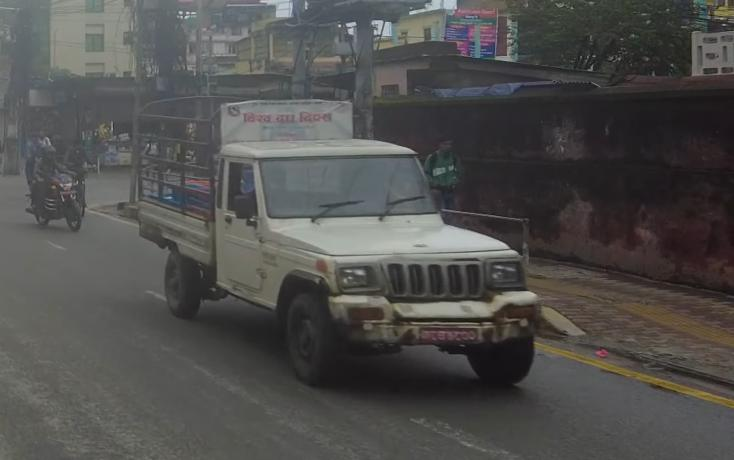bike: (18, 139, 104, 242)
transport_vehicle: (126, 91, 555, 396)
